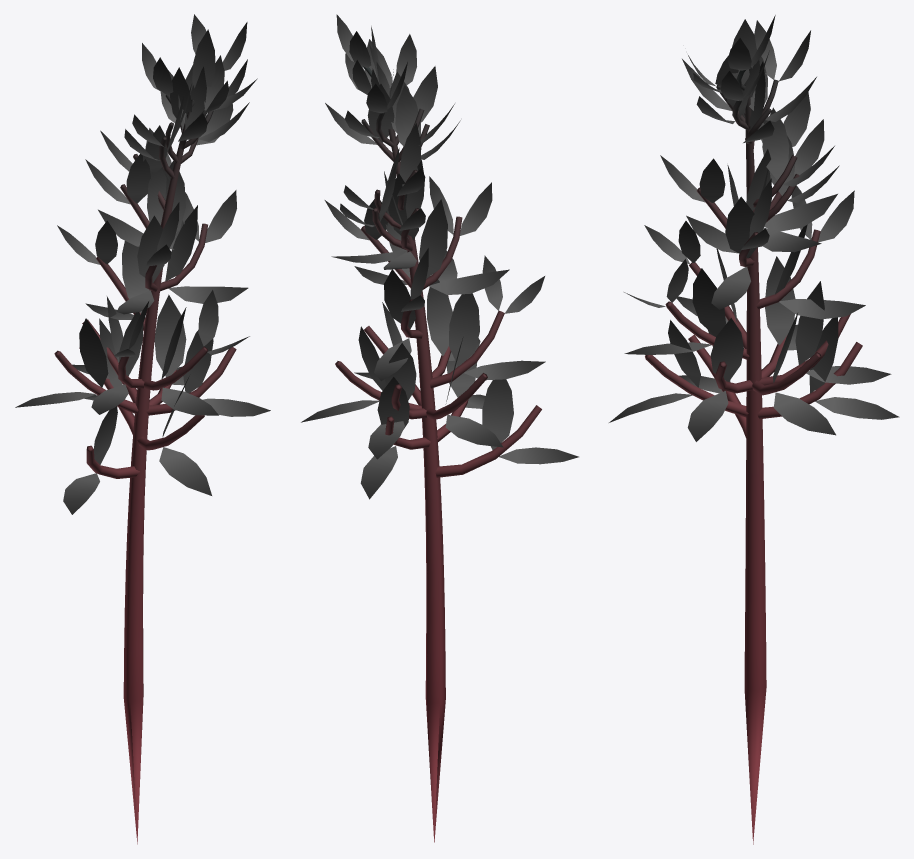
Rendered from plants-bushes-twigs-leafy-twig_v5.glb.
The picture shows the model from 3 angles, left to right: view 1: azimuth 30°, elevation 25°; view 2: azimuth 150°, elevation 25°; view 3: azimuth 270°, elevation 25°; orthographic projection. The views are drawn at different scales.
Visible parts, largest first — view 1: Leafy Twig_v5; view 2: Leafy Twig_v5; view 3: Leafy Twig_v5.
Boxes of the visible parts, bbox=[...] form: Leafy Twig_v5: bbox=[15, 14, 270, 844]; Leafy Twig_v5: bbox=[301, 14, 578, 842]; Leafy Twig_v5: bbox=[609, 15, 899, 844].
Size of the model in its own units: 0.1657 by 0.6 by 0.1831.
